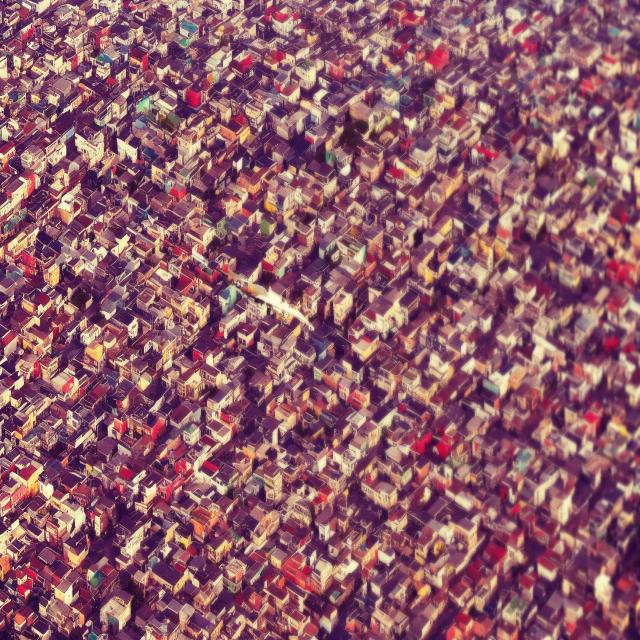airplane: (218, 257, 314, 330)
